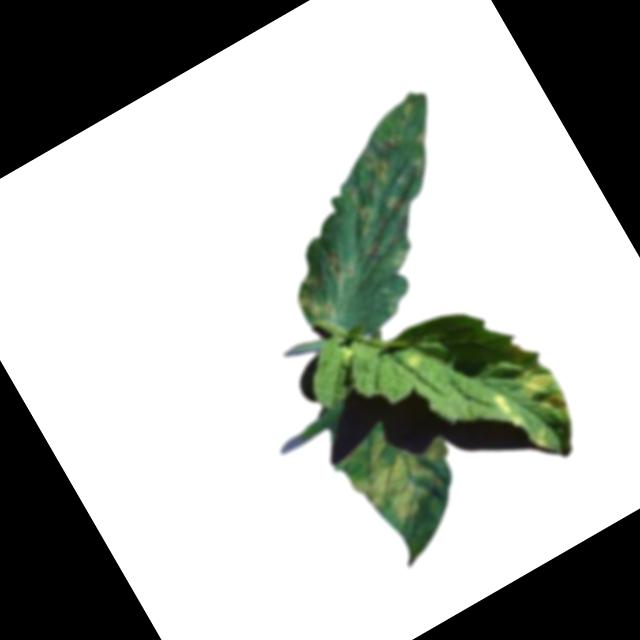Leaf_Mold: (334, 407, 472, 541), (510, 362, 578, 438), (288, 277, 342, 333), (338, 187, 383, 240), (353, 141, 397, 193), (316, 246, 361, 295), (487, 386, 523, 432), (382, 190, 408, 218), (403, 348, 428, 375)
